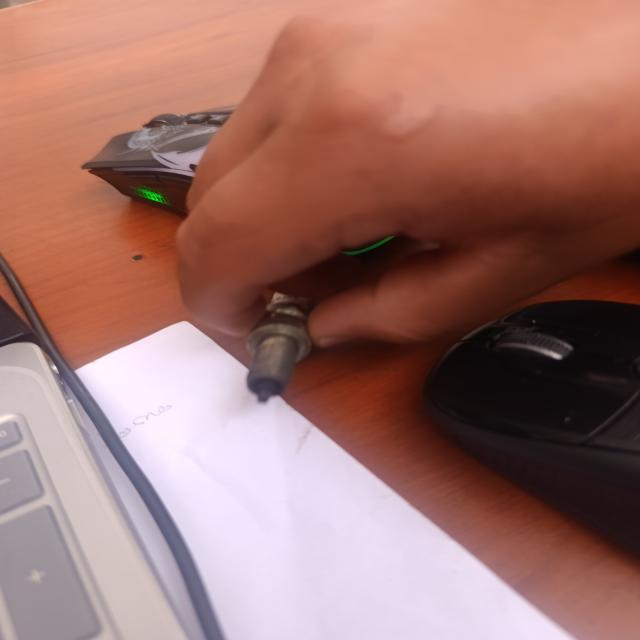Mause: (423, 300, 640, 557), (82, 106, 236, 215)
bujia: (247, 293, 311, 402)
